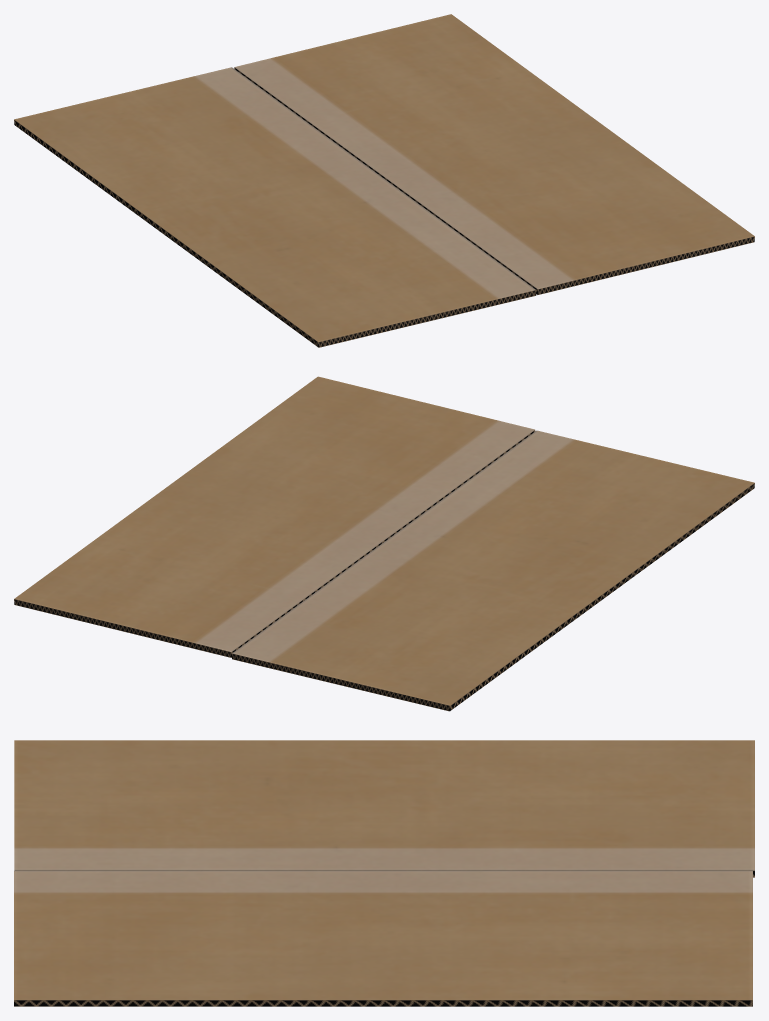
Rendered from openbox.fbx.
The picture shows the model from 3 angles, top to bottom: view 1: azimuth 30°, elevation 25°; view 2: azimuth 150°, elevation 25°; view 3: azimuth 270°, elevation 25°; orthographic projection. The views are drawn at different scales.
Visible parts, largest first — view 1: OpenedBox_Boxes_0.001, box; view 2: OpenedBox_Boxes_0.001, box; view 3: box, OpenedBox_Boxes_0.001.
Boxes of the visible parts, <box> form: OpenedBox_Boxes_0.001: <box>14,67,536,347</box>; box: <box>234,14,754,294</box>; OpenedBox_Boxes_0.001: <box>232,430,754,711</box>; box: <box>14,376,535,657</box>; box: <box>14,871,752,1006</box>; OpenedBox_Boxes_0.001: <box>14,740,754,877</box>.
Bounding box in the file's own units: 39.62 × 0.5862 × 47.86.
1 material, 1 textured.
